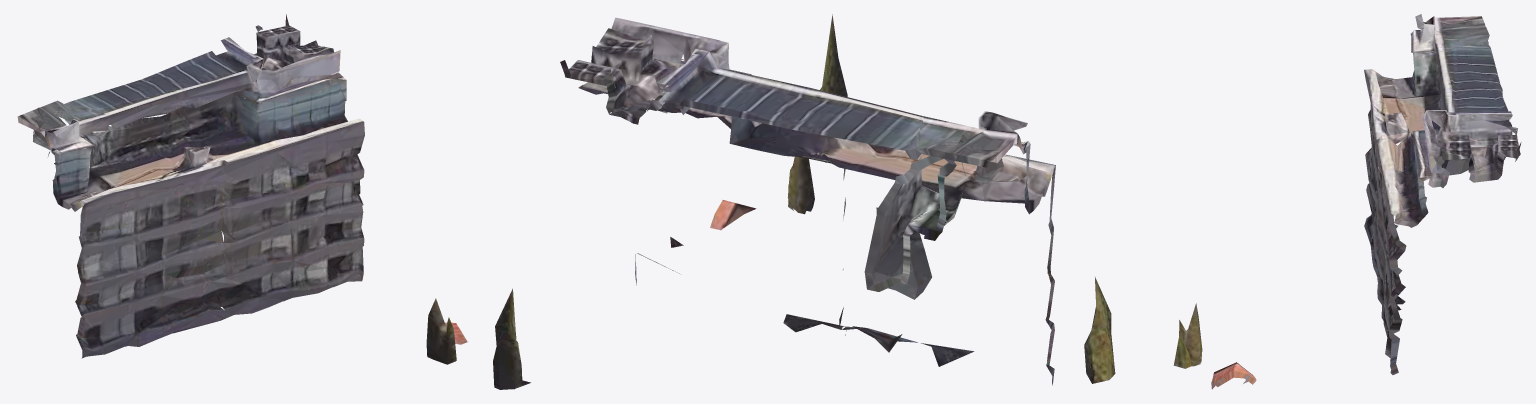
3 views of the same model, side by side, from view 1: azimuth 30°, elevation 25°; view 2: azimuth 150°, elevation 25°; view 3: azimuth 270°, elevation 25° (orthographic). The views are drawn at different scales.
Parts seen in each view (by area): view 1: Mesh_0; view 2: Mesh_0; view 3: Mesh_0.
Boxes of the visible parts, left/top/right/bottom form: Mesh_0: left=17, top=14, right=530, bottom=389; Mesh_0: left=560, top=14, right=1055, bottom=385; Mesh_0: left=1084, top=14, right=1521, bottom=389.
Size of the model in its own units: 32.67 by 22.04 by 37.38.
Materials: 1 (1 with a texture image).
